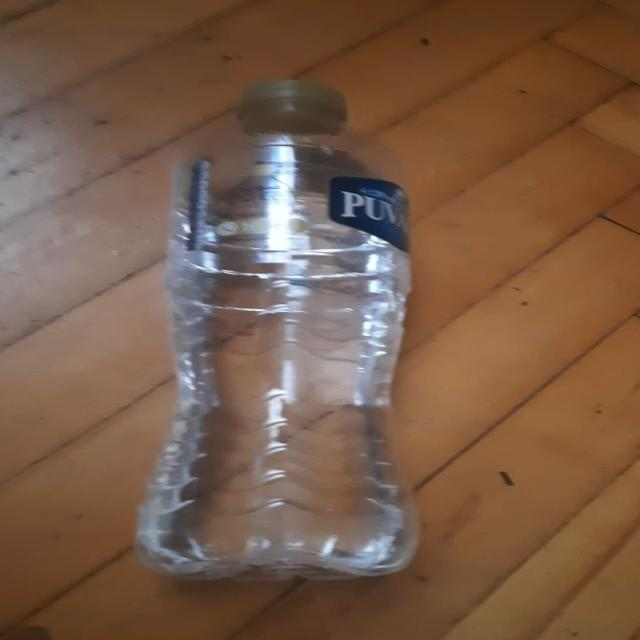Plastic: (133, 80, 420, 586)
